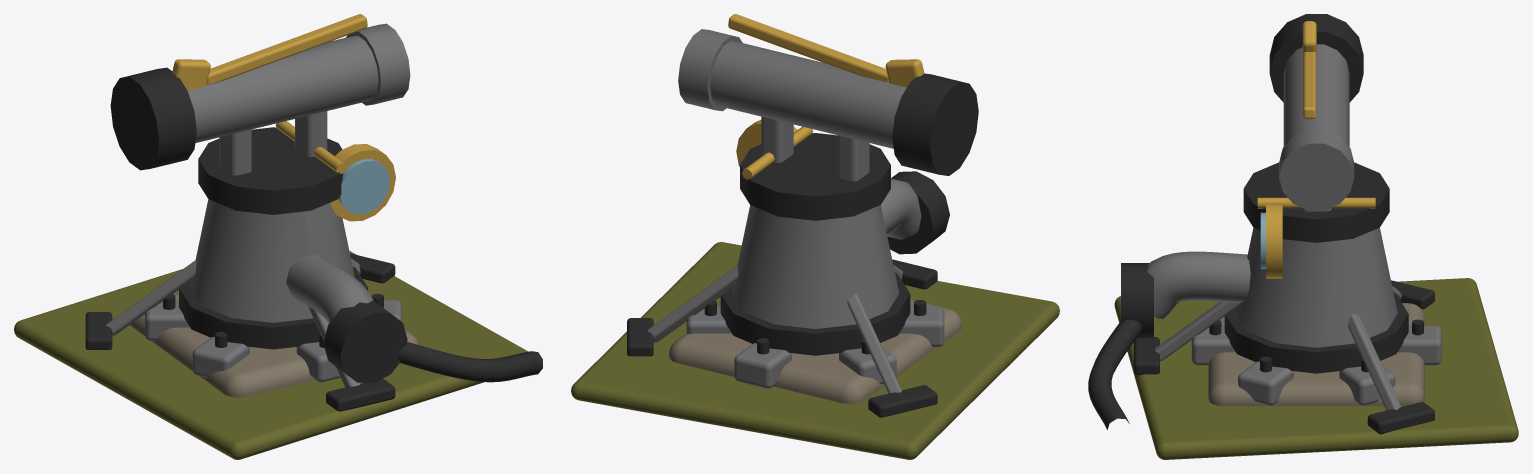
Rendered from sprinkler.glb.
3 views of the same model, side by side, from view 1: azimuth 30°, elevation 25°; view 2: azimuth 150°, elevation 25°; view 3: azimuth 270°, elevation 25° (orthographic). The views are drawn at different scales.
Parts seen in each view (by area): view 1: sprinkler-farm-metal, sprinkler-farm-window, sprinkler-farm-grass, sprinkler-farm-gold, sprinkler-farm-stone, sprinkler-farm-accent-blue; view 2: sprinkler-farm-metal, sprinkler-farm-grass, sprinkler-farm-window, sprinkler-farm-stone, sprinkler-farm-gold; view 3: sprinkler-farm-metal, sprinkler-farm-grass, sprinkler-farm-window, sprinkler-farm-stone, sprinkler-farm-gold.
Boxes of the visible parts, bbox=[...] form: sprinkler-farm-metal: bbox=[105, 23, 410, 387]; sprinkler-farm-window: bbox=[85, 67, 542, 411]; sprinkler-farm-grass: bbox=[14, 251, 527, 459]; sprinkler-farm-gold: bbox=[172, 14, 395, 221]; sprinkler-farm-stone: bbox=[130, 293, 418, 397]; sprinkler-farm-accent-blue: bbox=[338, 159, 390, 214]; sprinkler-farm-metal: bbox=[647, 29, 944, 393]; sprinkler-farm-grass: bbox=[571, 242, 1059, 459]; sprinkler-farm-window: bbox=[627, 73, 978, 417]; sprinkler-farm-stone: bbox=[669, 299, 961, 403]; sprinkler-farm-gold: bbox=[728, 14, 924, 179]; sprinkler-farm-metal: bbox=[1147, 44, 1441, 410]; sprinkler-farm-grass: bbox=[1114, 278, 1518, 459]; sprinkler-farm-window: bbox=[1088, 14, 1434, 434]; sprinkler-farm-stone: bbox=[1208, 303, 1424, 406]; sprinkler-farm-gold: bbox=[1257, 21, 1375, 278].
Bounding box in the file's own units: 1.72 × 1.46 × 1.83.
